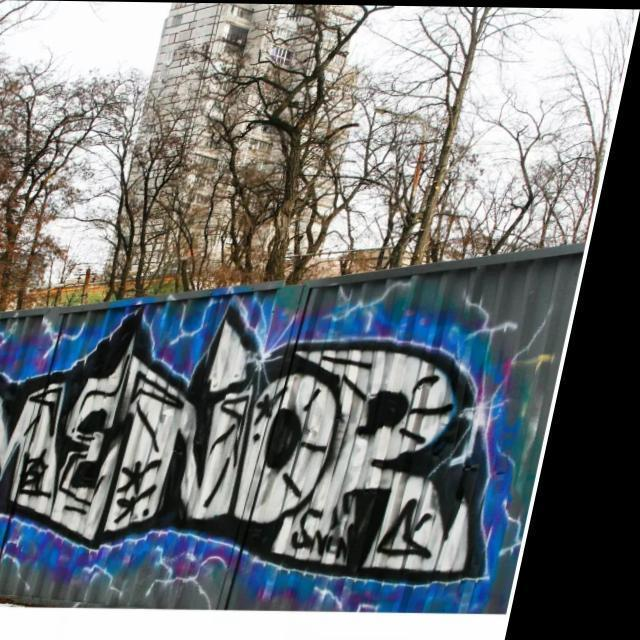nonspitting: (0, 301, 489, 585)
